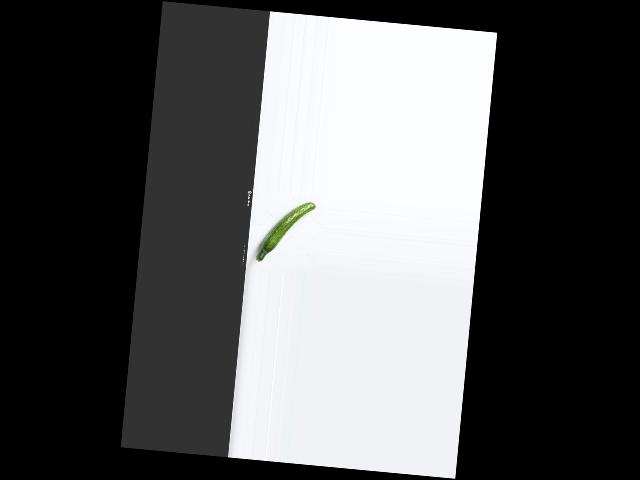cucumber: (255, 198, 315, 267)
